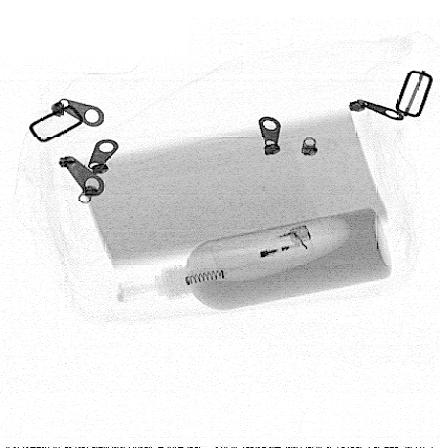Lighter: (210, 225, 314, 273)
